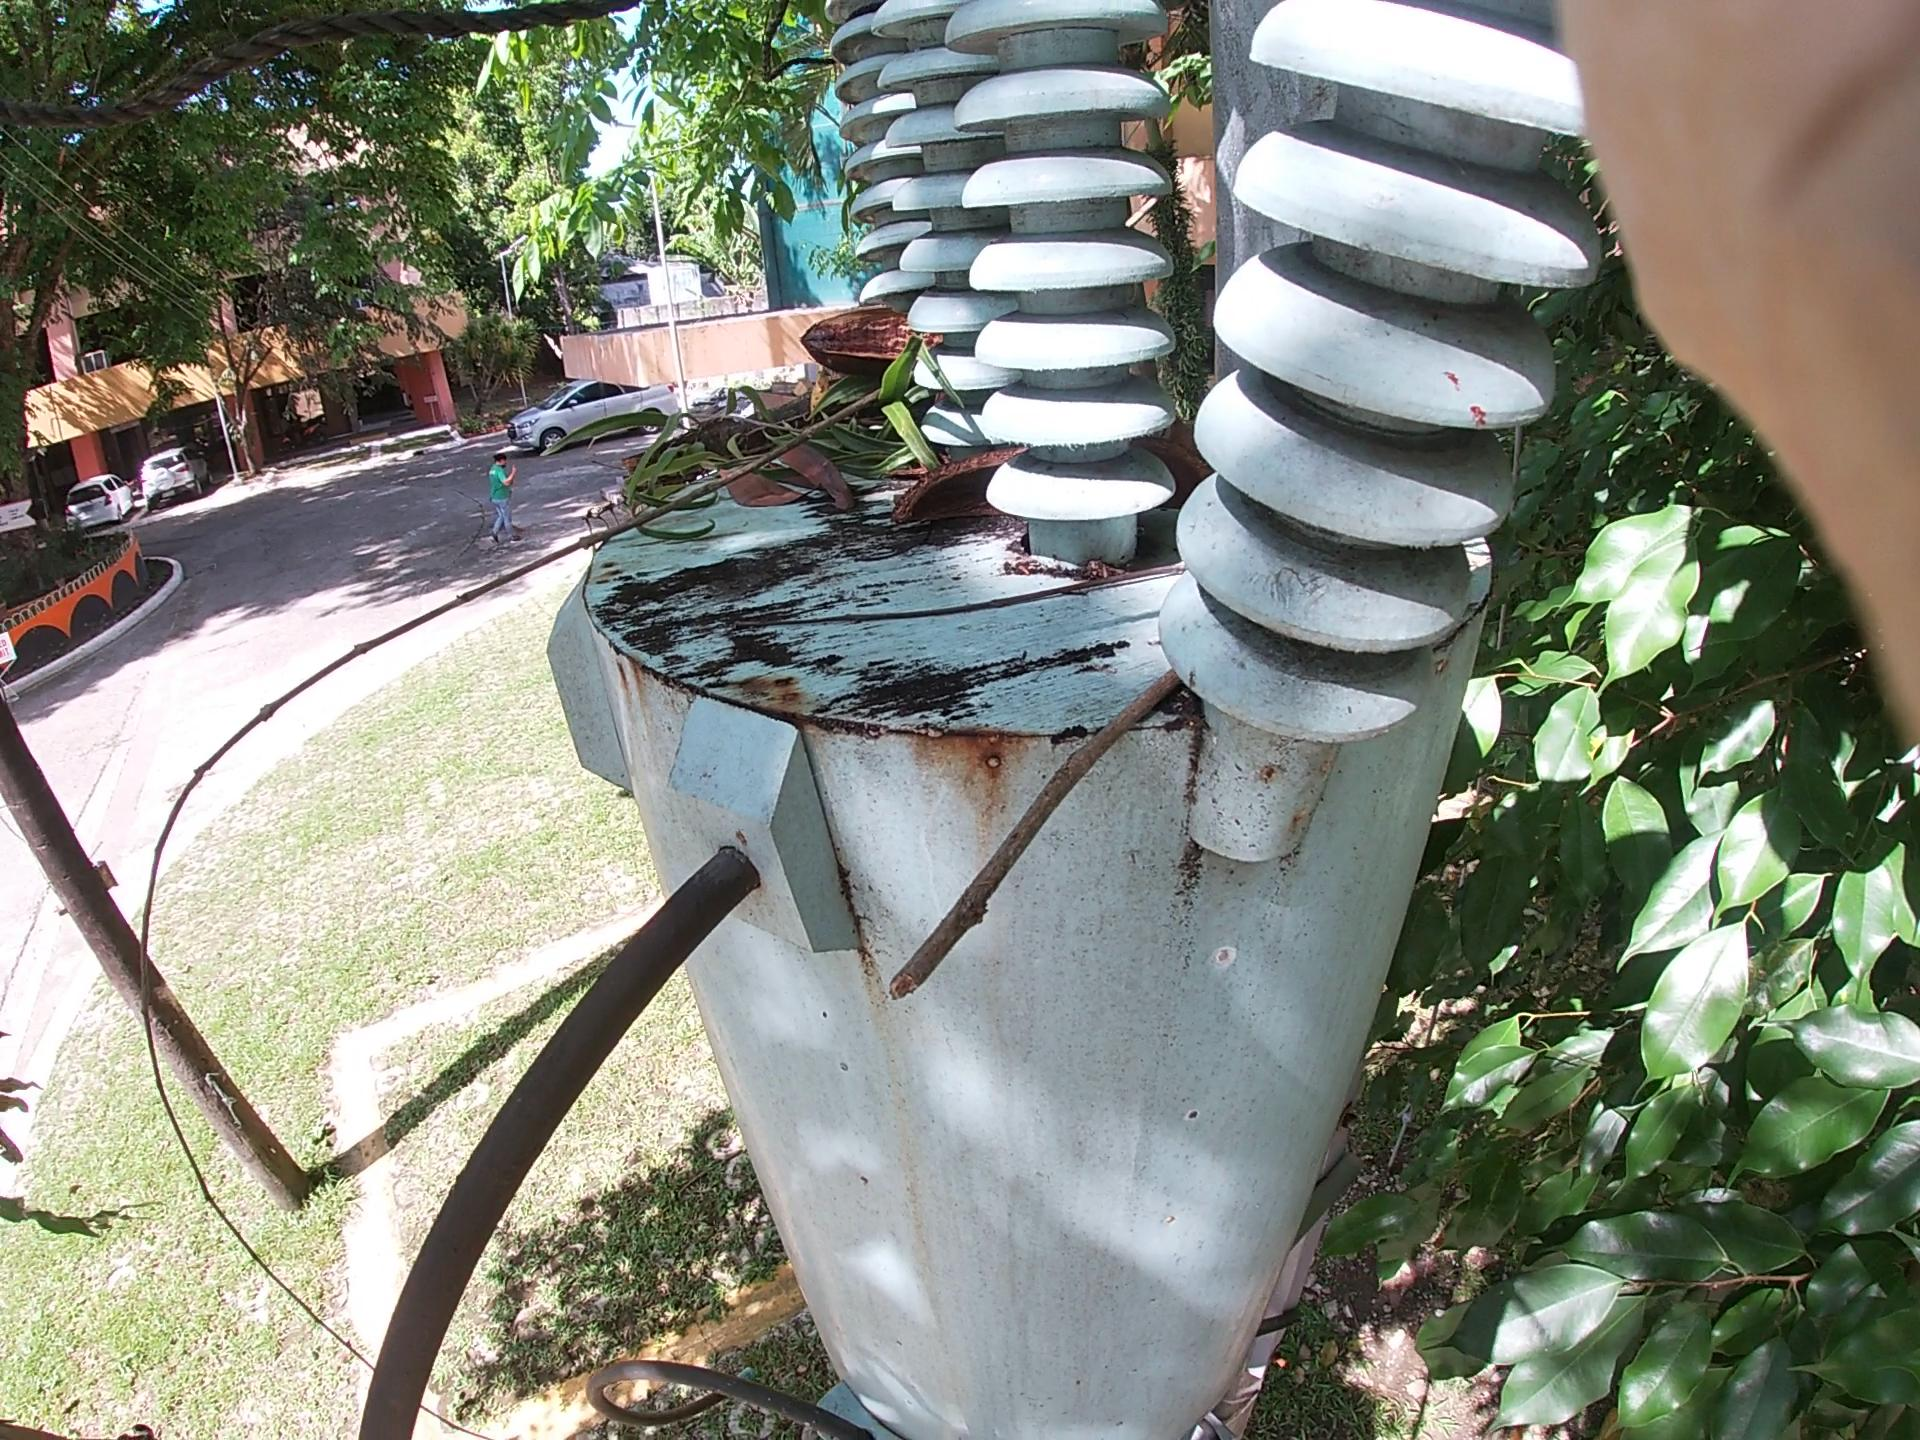branch with leaves: (565, 191, 1011, 602)
leaf: (754, 422, 810, 549)
mahogany fruit: (788, 289, 996, 446), (868, 427, 1063, 564)
tree branch: (132, 390, 903, 911), (962, 684, 1147, 982), (825, 591, 1175, 641)
